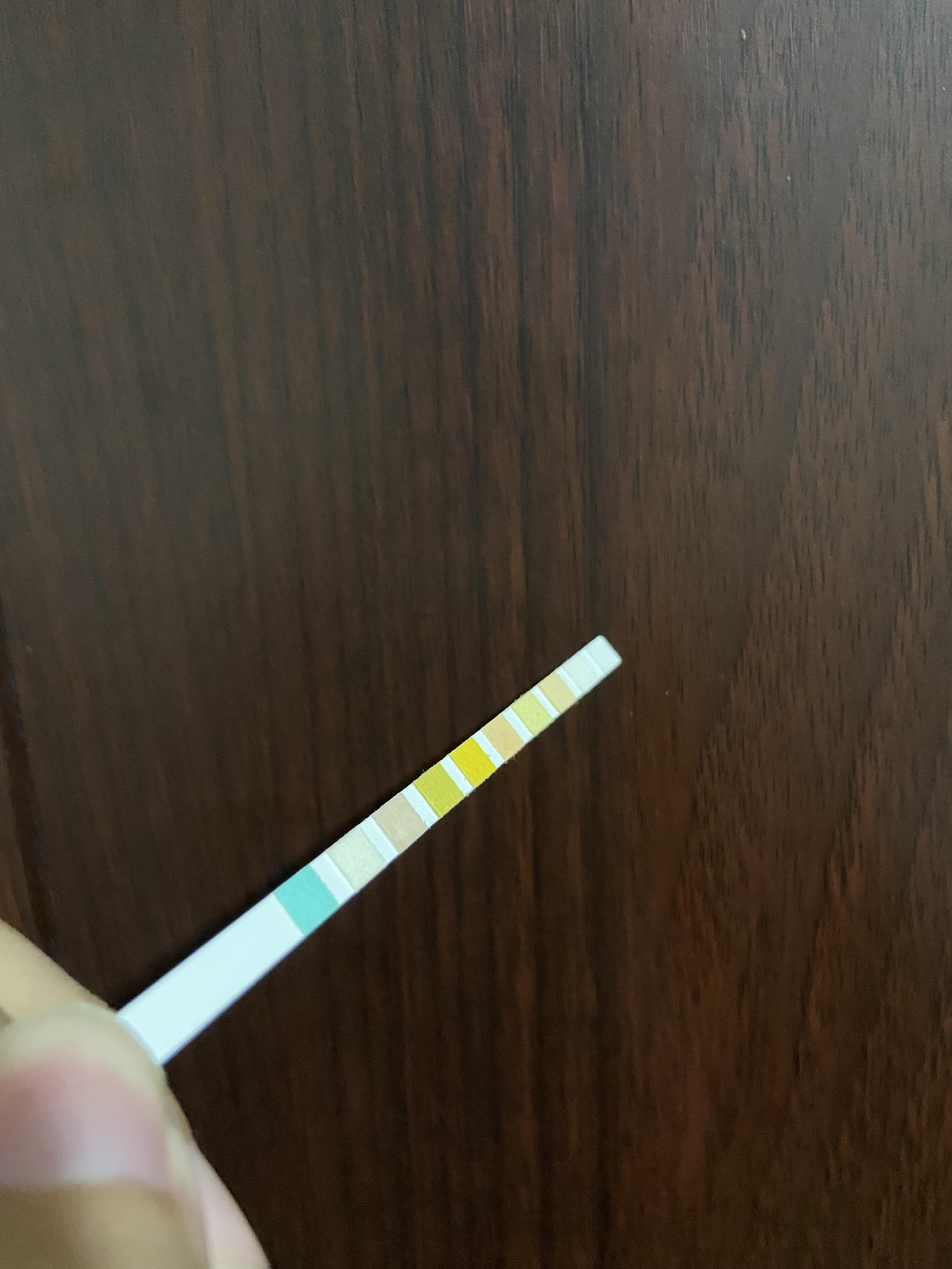Bilirubin: (340, 845, 373, 870)
Blood: (461, 748, 481, 769)
Glucose: (293, 882, 320, 915)
Ketone: (385, 808, 412, 832)
Leukocytes: (598, 648, 611, 663)
Nitrite: (573, 661, 589, 677)
Protein: (527, 706, 539, 722)
SpGravity: (425, 777, 451, 795)
Urobilinogen: (552, 684, 564, 699)
pH: (495, 729, 511, 745)
strip: (126, 636, 623, 1058)
